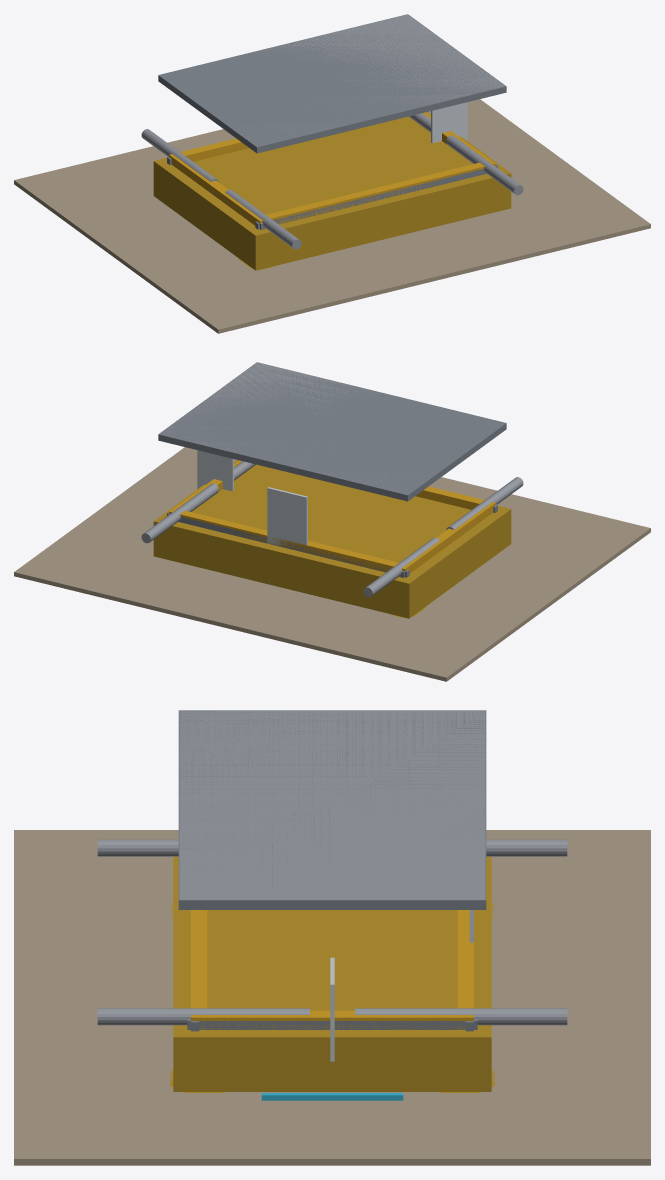
The model's file is stage_08_bands.glb.
The picture shows the model from 3 angles, top to bottom: view 1: azimuth 30°, elevation 25°; view 2: azimuth 150°, elevation 25°; view 3: azimuth 270°, elevation 25°; orthographic projection. The views are drawn at different scales.
Parts seen in each view (by area): view 1: world; view 2: world; view 3: world.
Part boxes in pixels (x1=…): world: x1=14, y1=14, x2=650, y2=333; world: x1=14, y1=362, x2=650, y2=681; world: x1=14, y1=710, x2=650, y2=1165.
Bounding box in the file's own units: 11 × 3.75 × 9.
